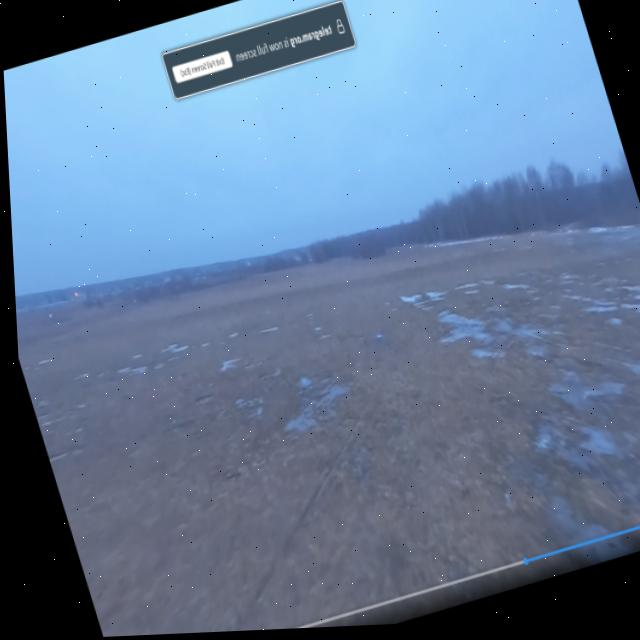planedrone: (361, 326, 393, 345)
